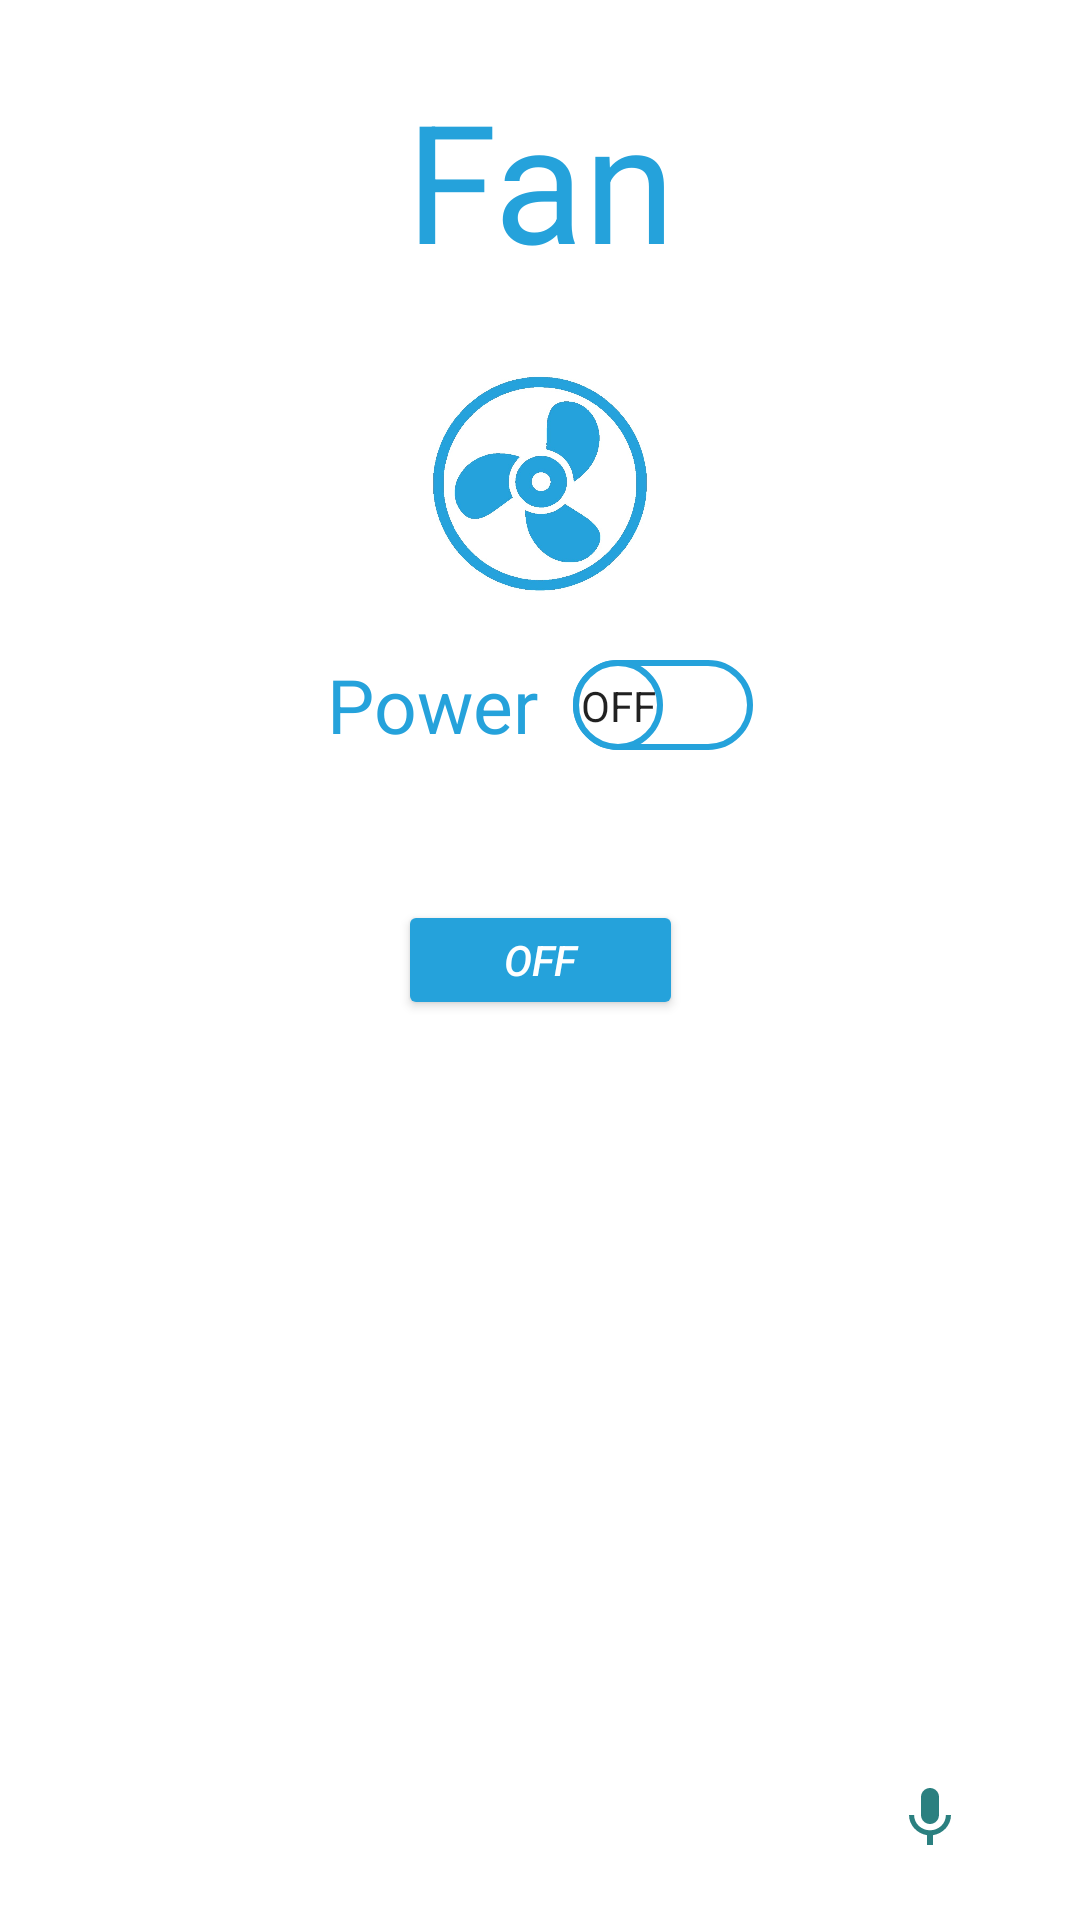

Icon click points for this 1080×1920 phone screenshot, format (x,y):
fan off: (540,484)
